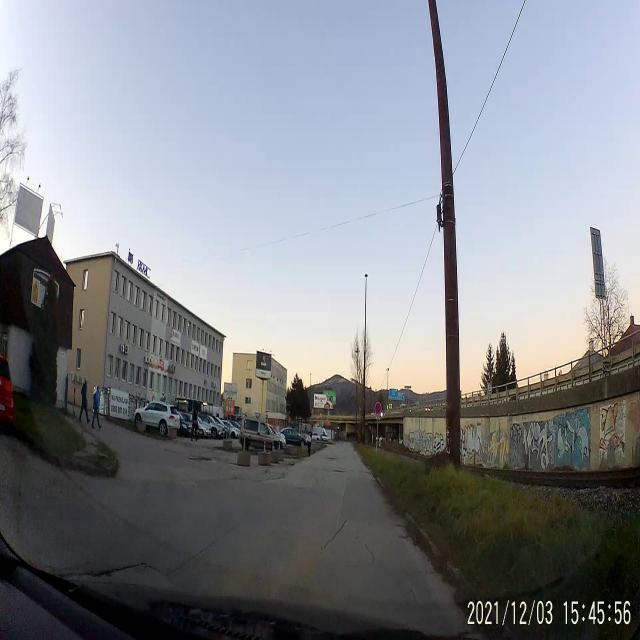Pothole: (187, 452, 216, 467), (328, 468, 346, 476), (325, 453, 338, 463)
